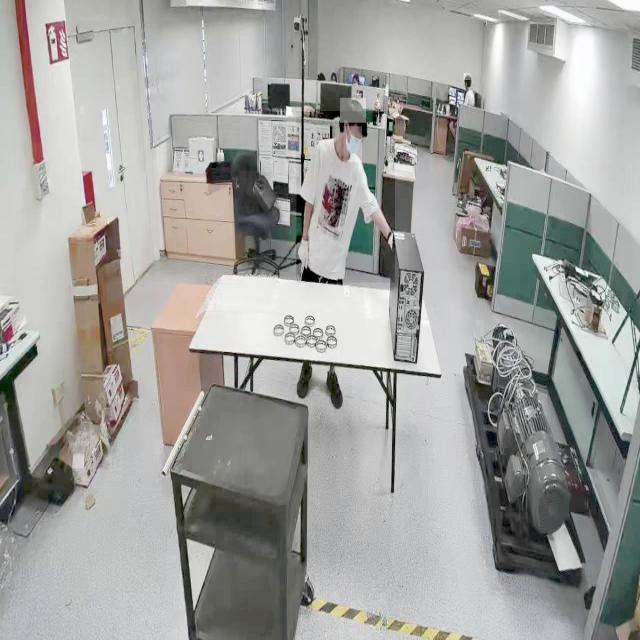face_mask: (344, 126, 362, 162)
hand_glove: (296, 236, 310, 278)
head_nohelmet: (340, 98, 366, 124), (463, 73, 471, 81)
person: (296, 111, 396, 284)
shoes: (324, 366, 346, 408), (295, 363, 316, 400)
